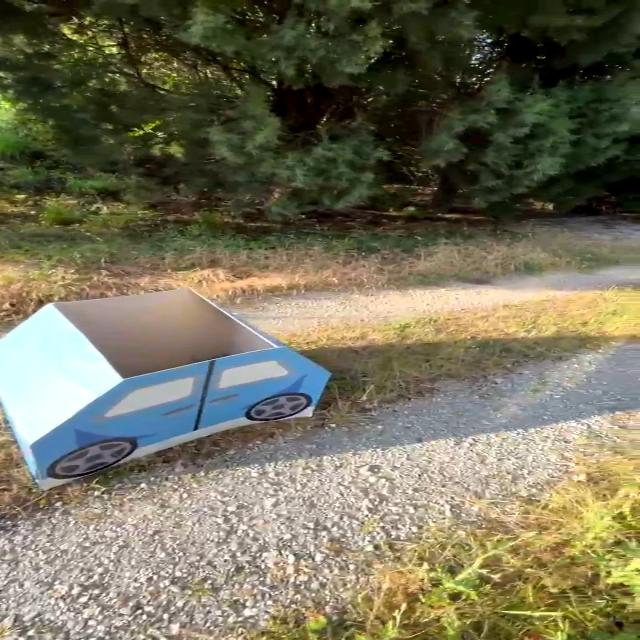blue_car: (0, 268, 377, 518)
